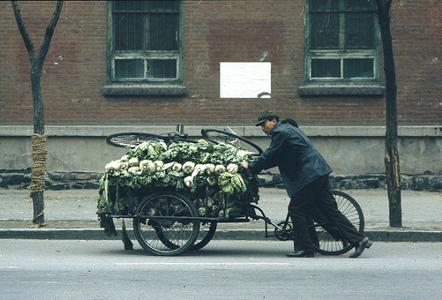person: (240, 114, 373, 259)
